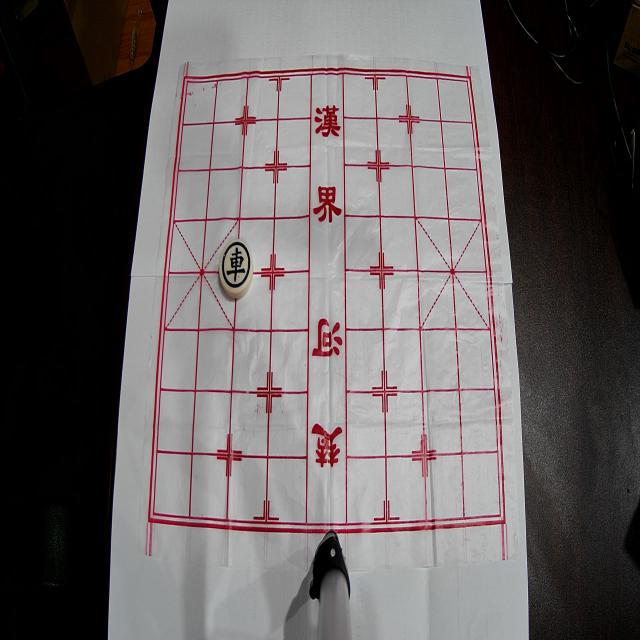black-chariot: (220, 239, 253, 298)
